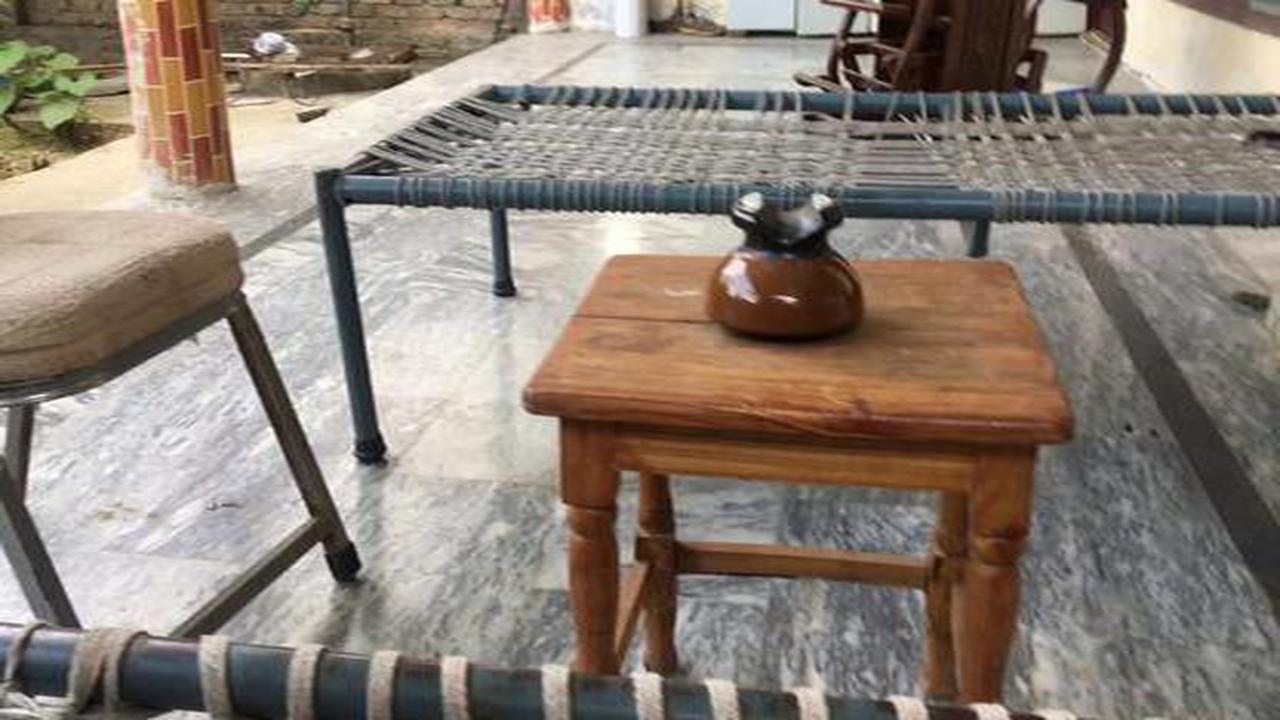insulator_pin: (693, 167, 884, 354)
